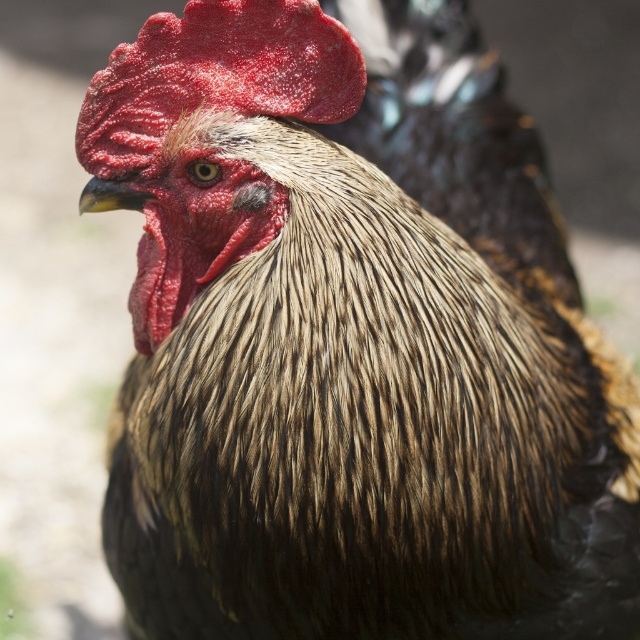Chicken: (74, 0, 640, 640)
